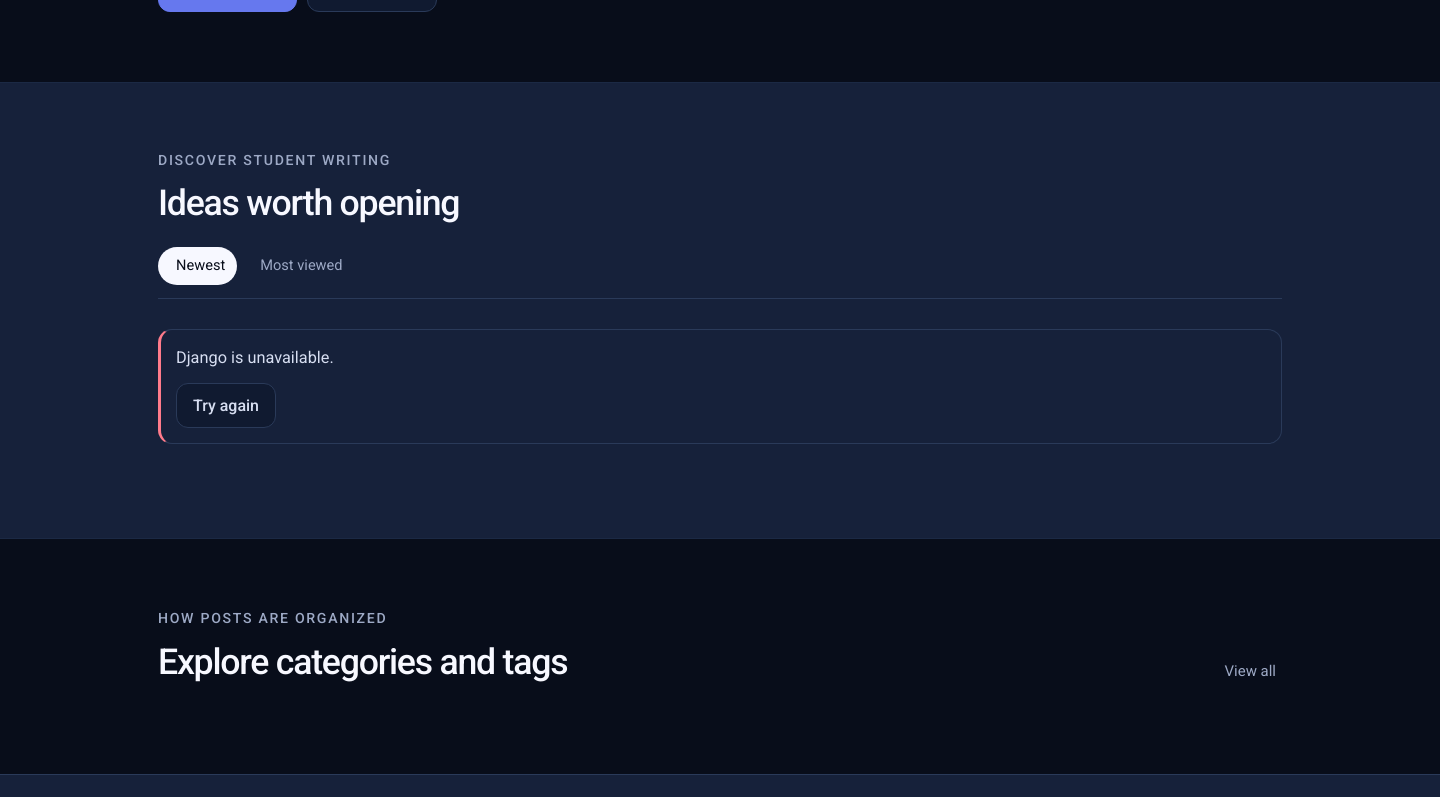
Test: PublicPostsPage › shows an error and retries the request
The image size is (1440, 797).
(page scrolled)
Expected: the message shows "Django is unavailable.", 176,348 -> 334,366
Click the button "Try again" at (226, 405), box 176,383 -> 276,428
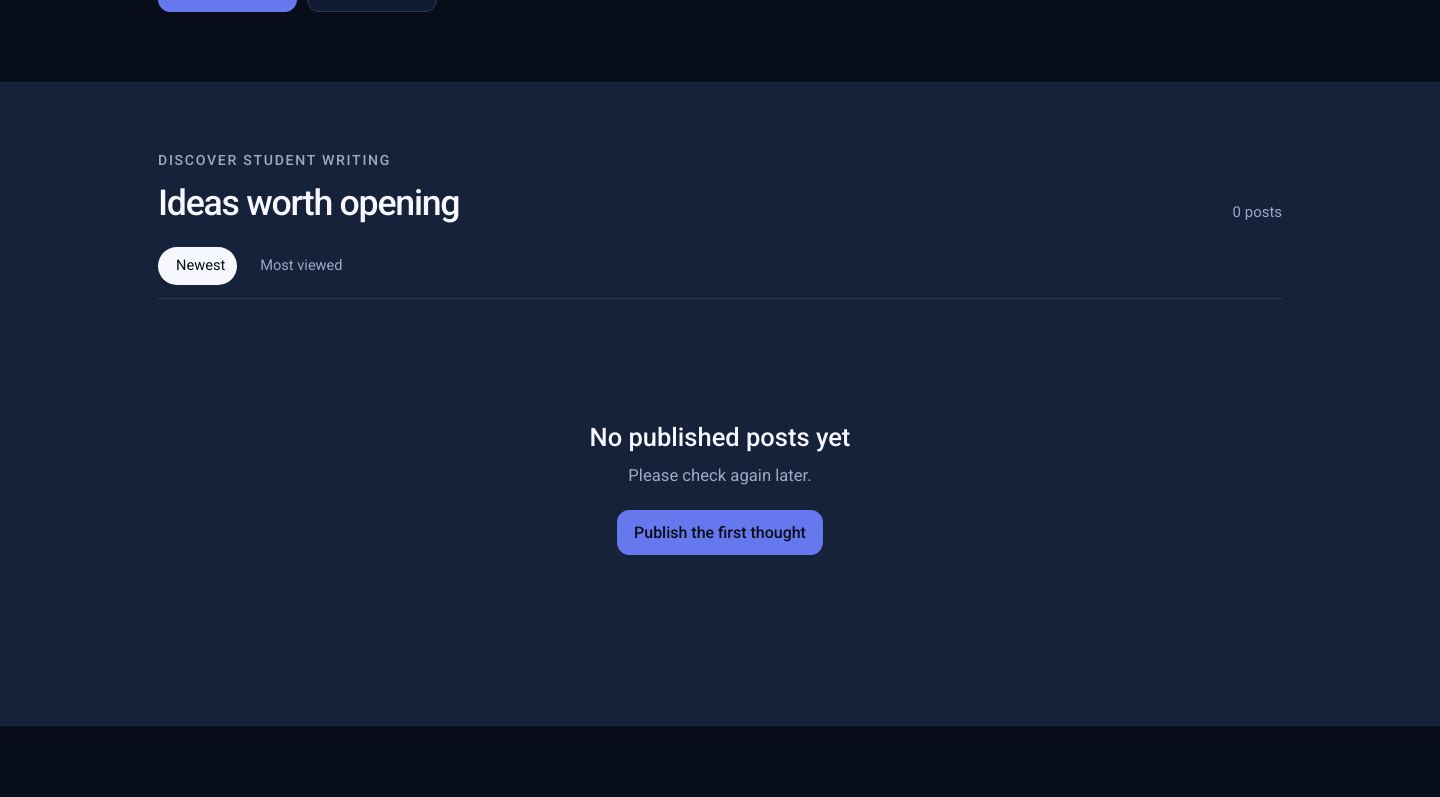
Expected: the heading "No published posts yet" is shown, 590,422 -> 850,452
